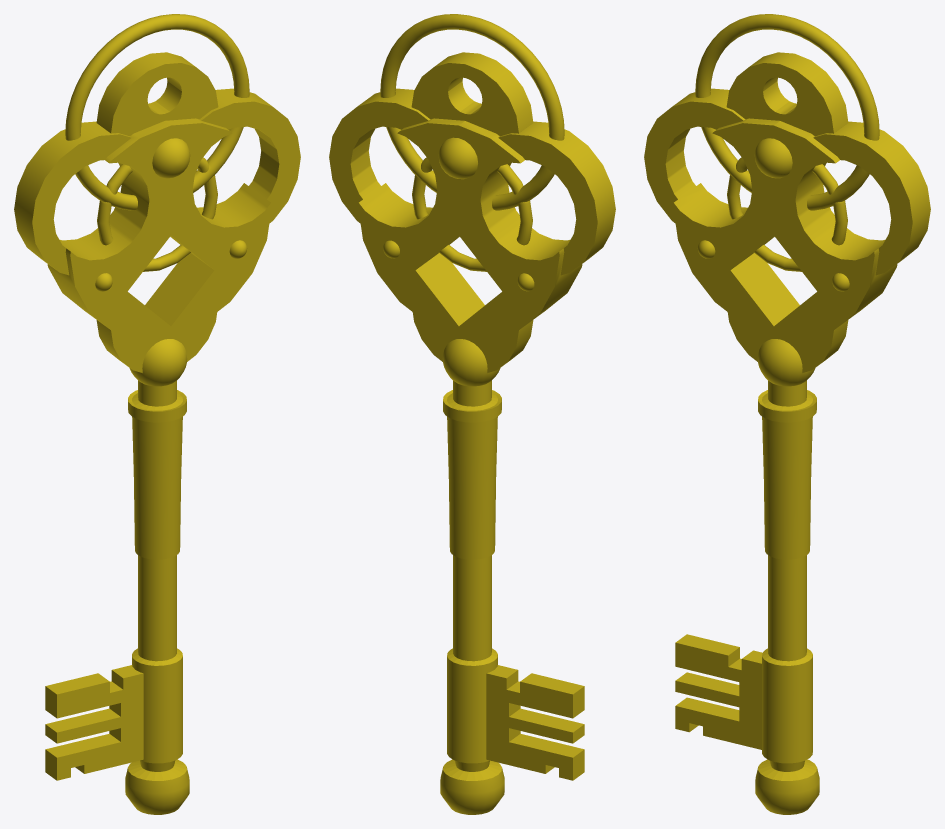
File: key.fbx
3 renders of one model, left to right at view 1: azimuth 30°, elevation 25°; view 2: azimuth 150°, elevation 25°; view 3: azimuth 330°, elevation 25°, orthographic.
Visible parts, largest first — view 1: pCylinder17, pCylinder1, pCube11, pTorus4, pSphere7, pSphere1; view 2: pCylinder17, pCylinder1, pCube11, pTorus4, pSphere7, pSphere2; view 3: pCylinder17, pCylinder1, pTorus4, pCube11, pSphere7, pSphere1.
Part boxes in pixels (<box>): pCylinder17: <box>14,52,300,372</box>; pCylinder1: <box>125,380,189,814</box>; pCube11: <box>45,665,143,780</box>; pTorus4: <box>65,14,249,271</box>; pSphere7: <box>129,339,187,386</box>; pSphere1: <box>152,138,190,178</box>; pCylinder17: <box>329,52,615,372</box>; pCylinder1: <box>440,380,504,814</box>; pCube11: <box>486,665,584,780</box>; pTorus4: <box>380,14,564,271</box>; pSphere7: <box>442,339,500,386</box>; pSphere2: <box>438,137,477,179</box>; pCylinder17: <box>644,52,930,372</box>; pCylinder1: <box>755,380,819,814</box>; pTorus4: <box>695,14,879,271</box>; pCube11: <box>675,634,762,749</box>; pSphere7: <box>757,339,815,386</box>; pSphere1: <box>754,138,792,178</box>.
Bounding box in the file's own units: 4 × 11.27 × 1.13.
